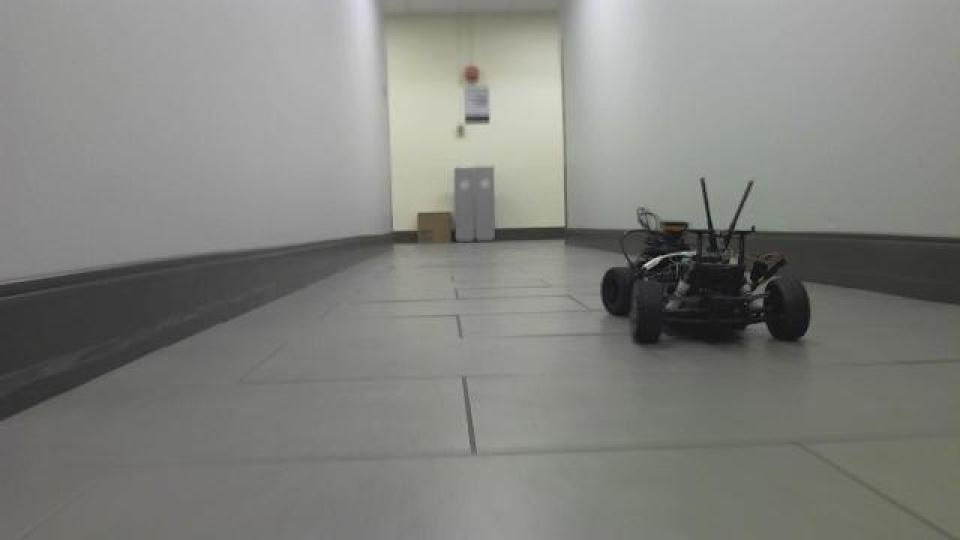car: (597, 174, 813, 346)
